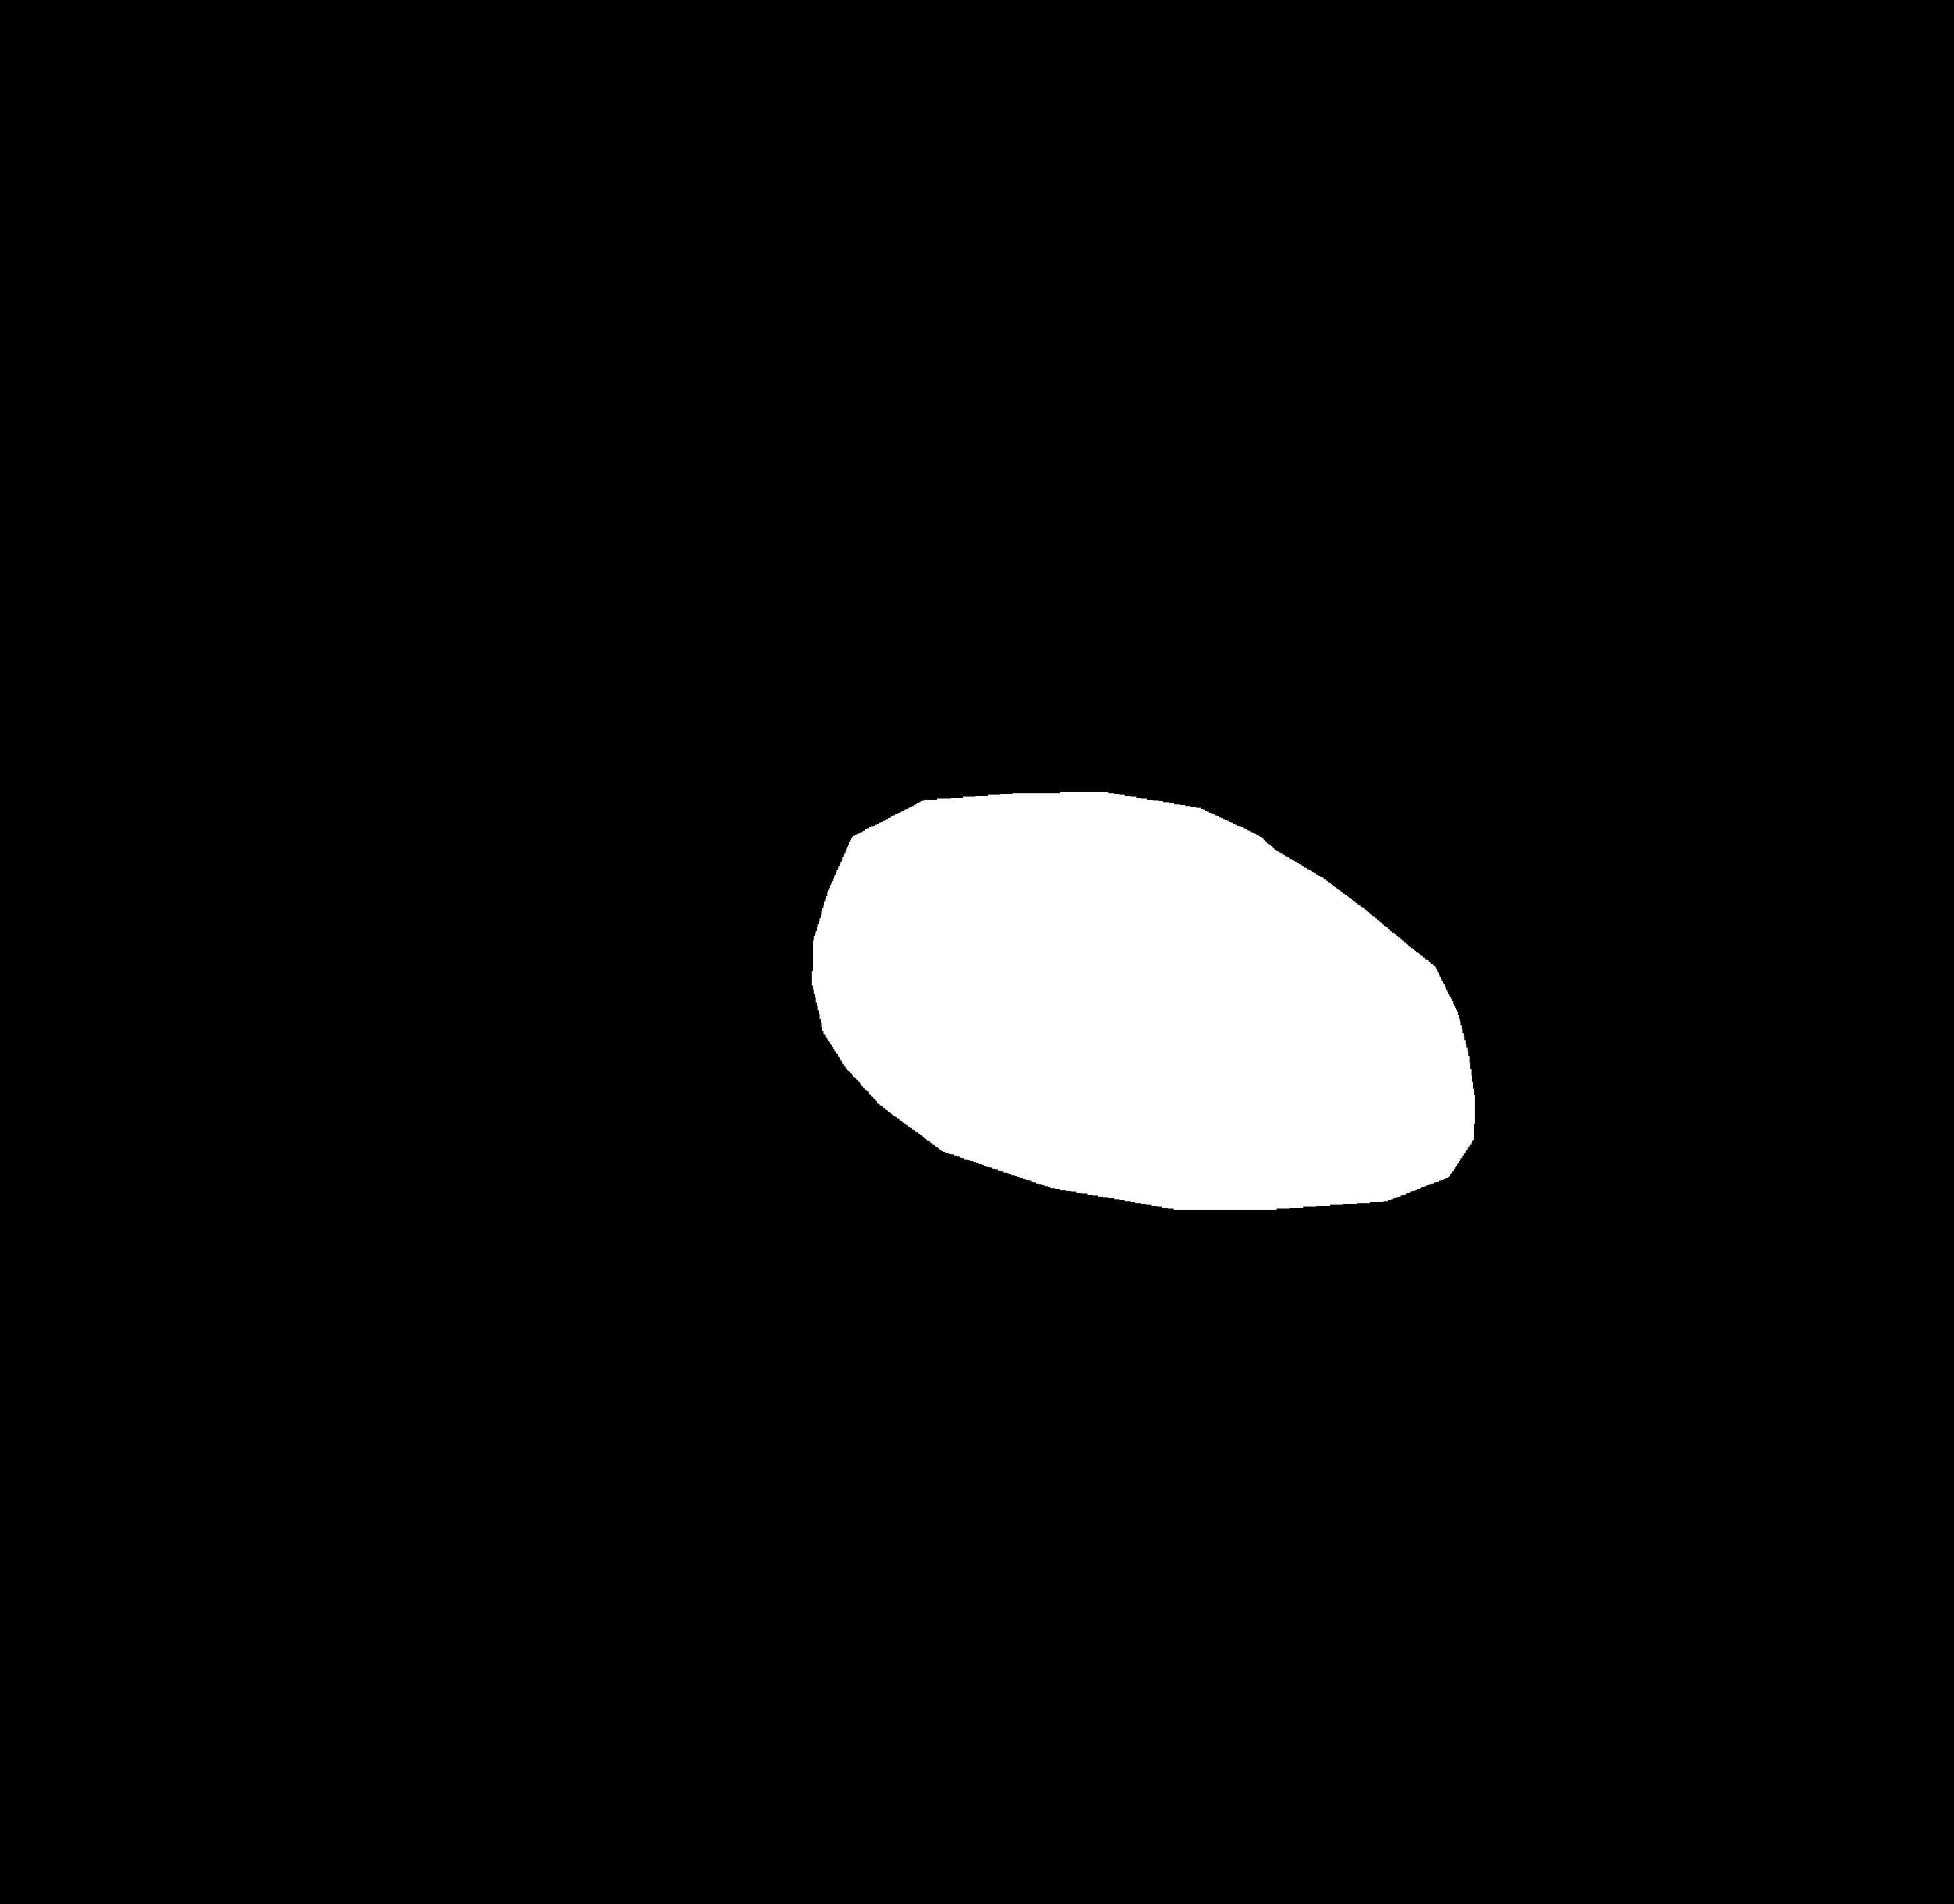heart: (797, 830, 1467, 1196)
left_lung: (356, 220, 914, 1107)
right_lung: (1049, 284, 1549, 1144)
